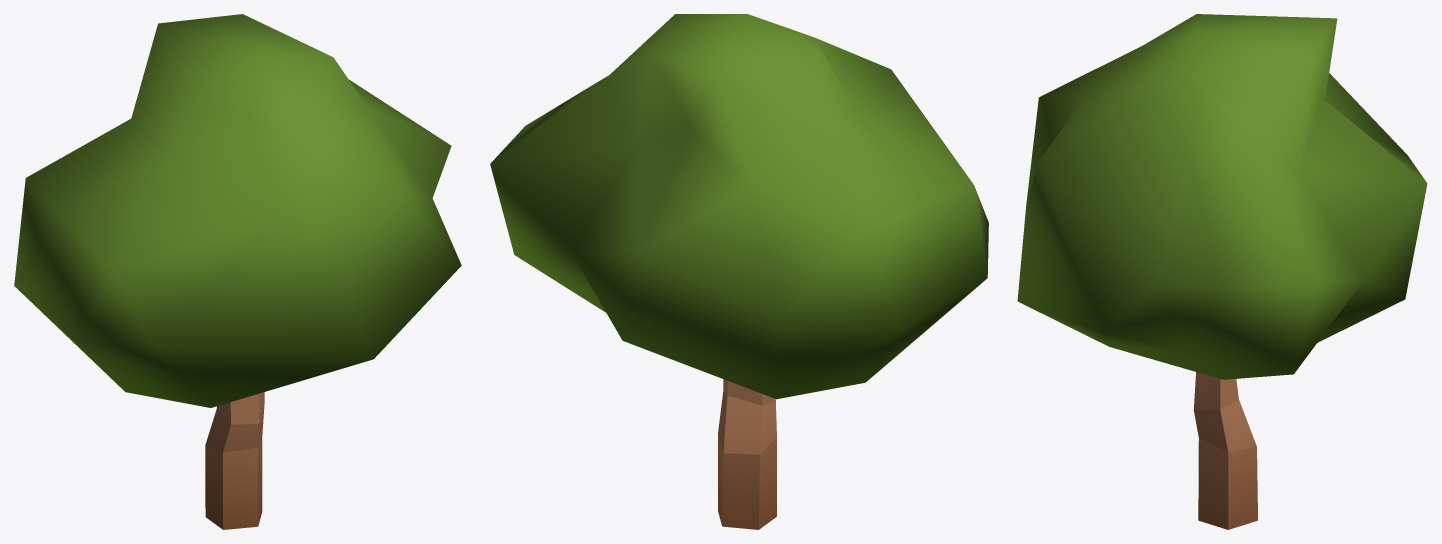
The model's file is TREE006.fbx.
The picture shows the model from 3 angles, left to right: view 1: azimuth 30°, elevation 25°; view 2: azimuth 150°, elevation 25°; view 3: azimuth 270°, elevation 25°; orthographic projection. The views are drawn at different scales.
Parts seen in each view (by area): view 1: pSolid15; view 2: pSolid15; view 3: pSolid15.
Part boxes in pixels (left/top/right/bottom): pSolid15: left=14, top=14, right=461, bottom=529; pSolid15: left=490, top=14, right=988, bottom=529; pSolid15: left=1017, top=14, right=1427, bottom=529.
Bounding box in the file's own units: 7.74 × 8.46 × 6.4.
Materials: 1 (1 with a texture image).
